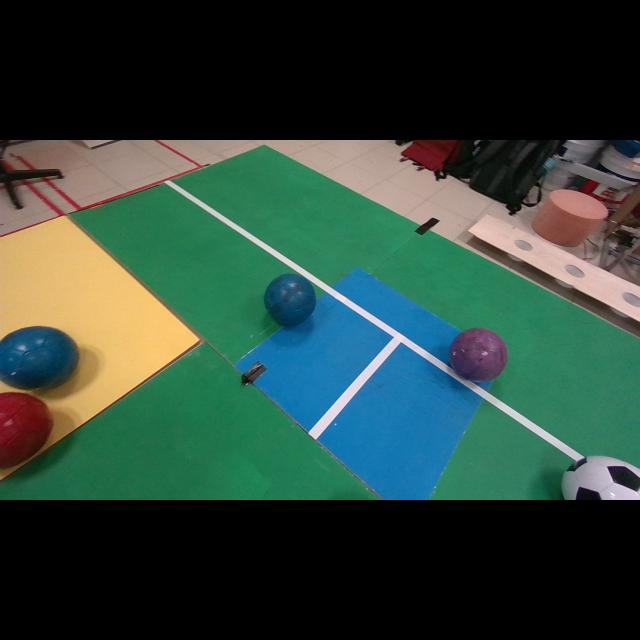B: (0, 326, 79, 389), (264, 274, 316, 325)
P: (449, 328, 508, 382)
R: (0, 392, 54, 468)
